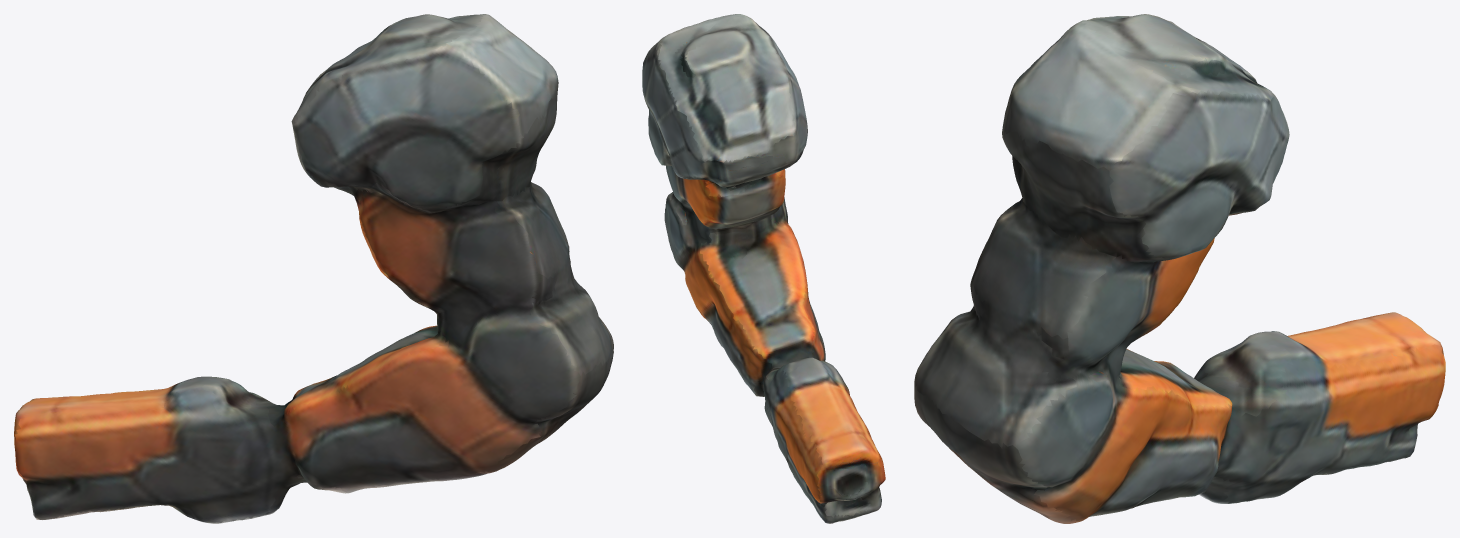
File: R_Arm2.glb
The picture shows the model from 3 angles, left to right: view 1: azimuth 30°, elevation 25°; view 2: azimuth 150°, elevation 25°; view 3: azimuth 270°, elevation 25°; orthographic projection. The views are drawn at different scales.
Parts seen in each view (by area): view 1: world; view 2: world; view 3: world.
Boxes of the visible parts, x1,y1,x2,y2 form: world: [14, 14, 613, 523]; world: [642, 14, 885, 523]; world: [914, 14, 1445, 523].
Bounding box in the file's own units: 0.6128 × 0.6728 × 0.5644.
1 material, 1 textured.
